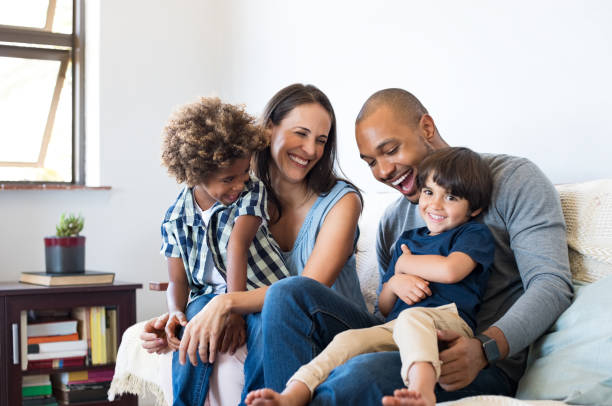without mask: (350, 82, 447, 205), (267, 89, 337, 182), (414, 154, 481, 232), (185, 135, 253, 205)
